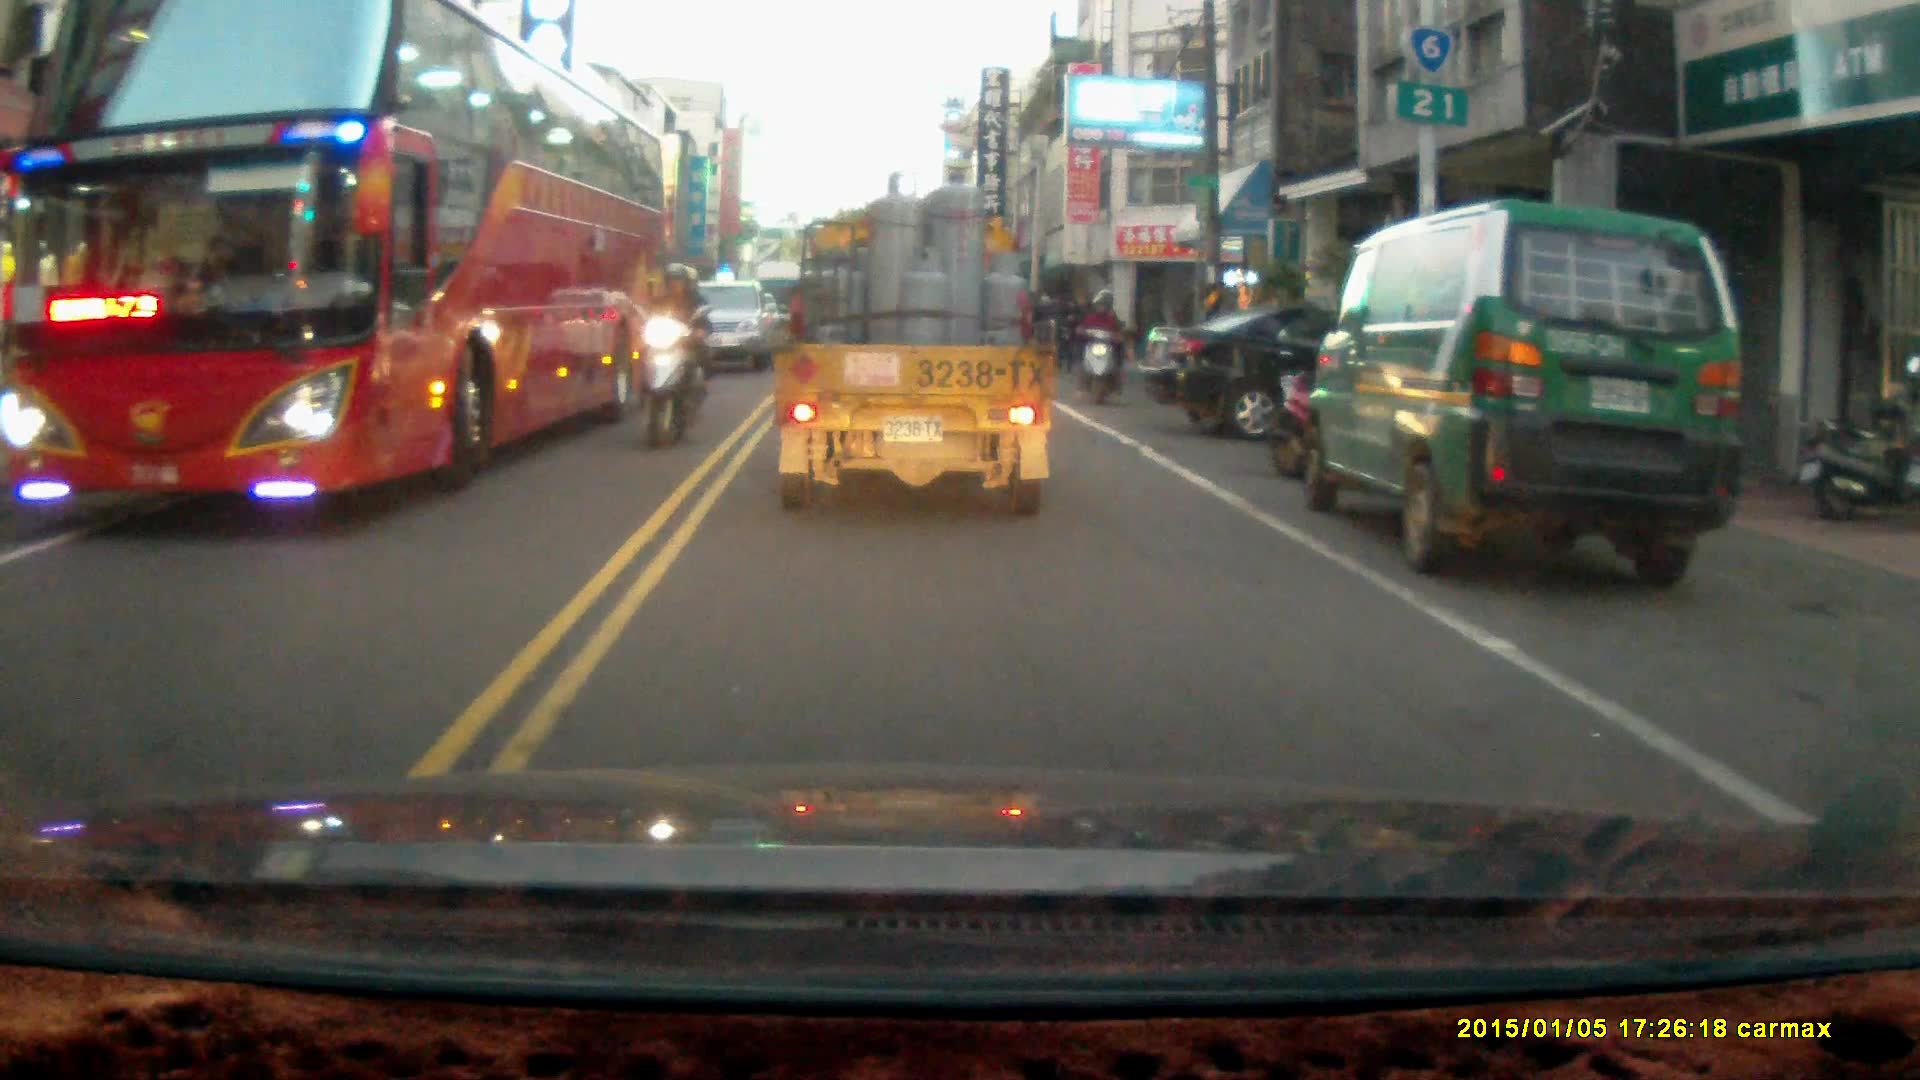rider: (631, 259, 711, 447), (1071, 287, 1126, 405)
vehicle: (11, 13, 663, 526), (1304, 193, 1745, 586), (772, 162, 1058, 519), (1148, 300, 1408, 443), (672, 277, 785, 378)
